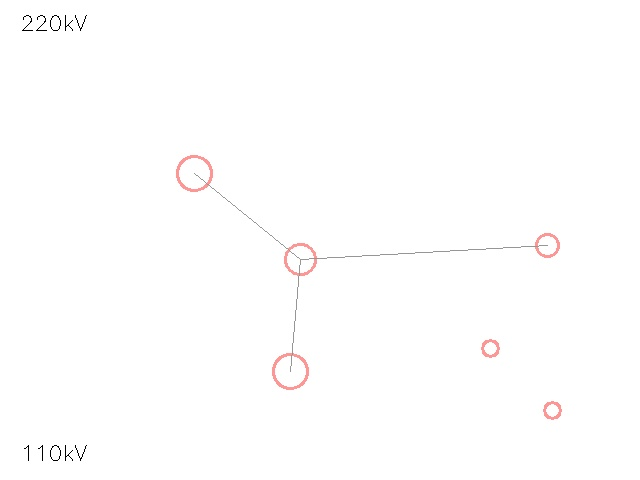current_transformer: (536, 394, 568, 426)
feeder_terminal: (474, 332, 506, 364)
load_break_switch: (160, 139, 228, 207), (270, 229, 330, 289), (524, 222, 570, 268)
surge_arrester: (256, 337, 324, 405)
